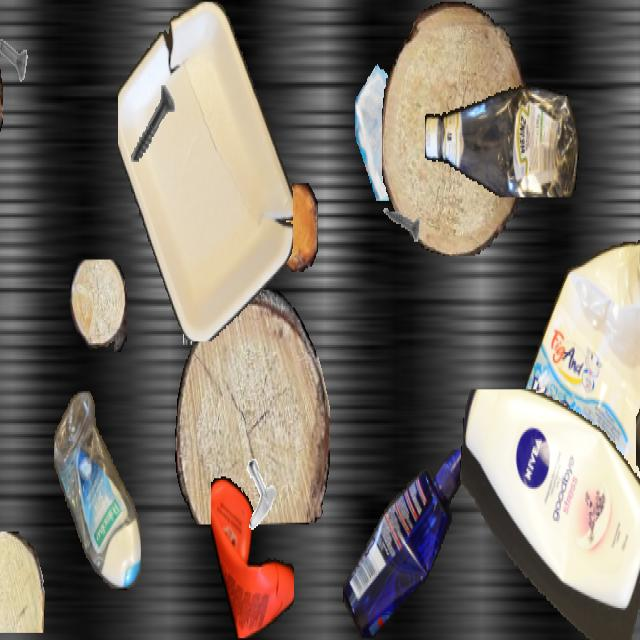glass: (355, 51, 439, 201), (523, 354, 585, 464)
metal: (121, 70, 183, 180), (175, 261, 221, 343), (235, 455, 279, 533), (0, 2, 28, 105), (380, 188, 420, 260)
plastic: (118, 2, 292, 340), (504, 224, 640, 590), (458, 390, 640, 638), (342, 450, 472, 638), (425, 76, 579, 198), (54, 391, 140, 590), (211, 471, 293, 638), (616, 203, 640, 430), (636, 372, 640, 638)
wood: (382, 2, 526, 254), (175, 290, 329, 524), (158, 166, 250, 300), (70, 260, 126, 352), (0, 532, 45, 631), (275, 183, 317, 272), (0, 2, 2, 194)
